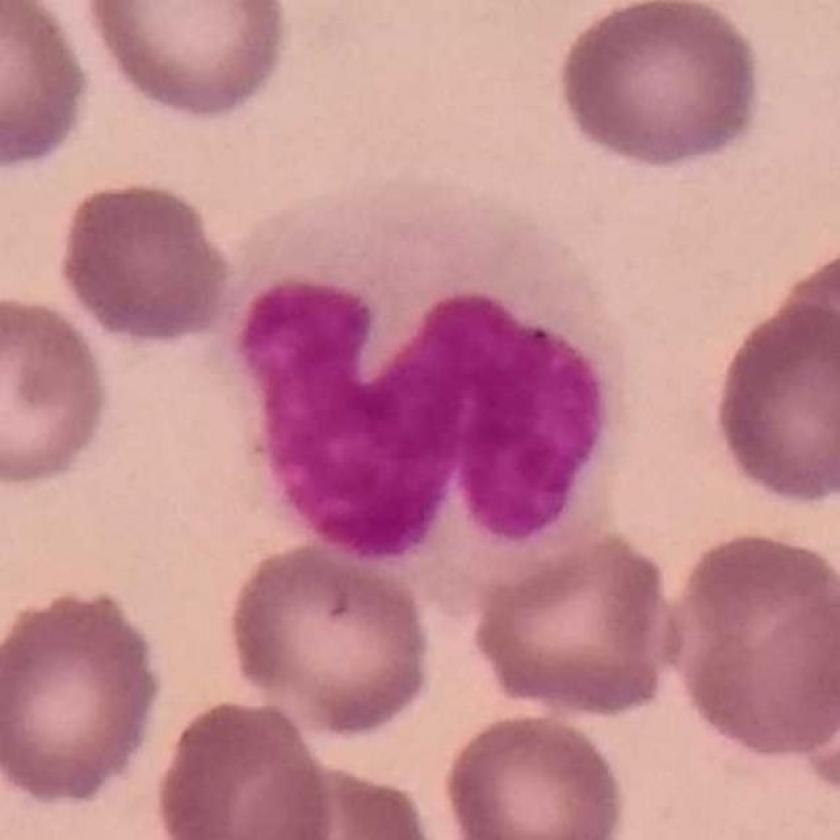monocyte: (188, 174, 641, 596)
